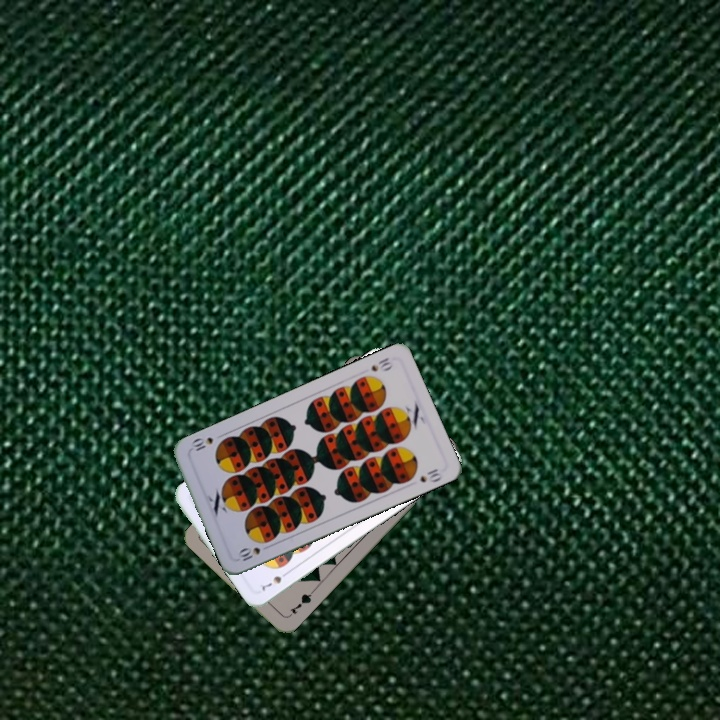G7: (286, 587, 315, 617)
S10: (234, 543, 263, 564), (367, 353, 395, 374)
S7: (257, 567, 292, 594)
